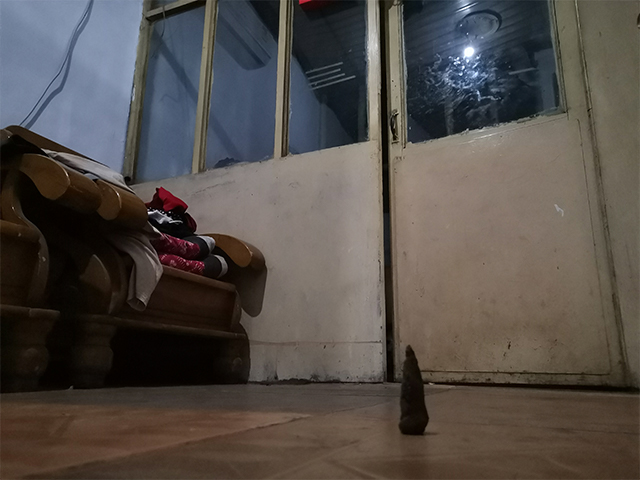feces: (397, 343, 431, 437)
stool: (1, 123, 269, 394)
